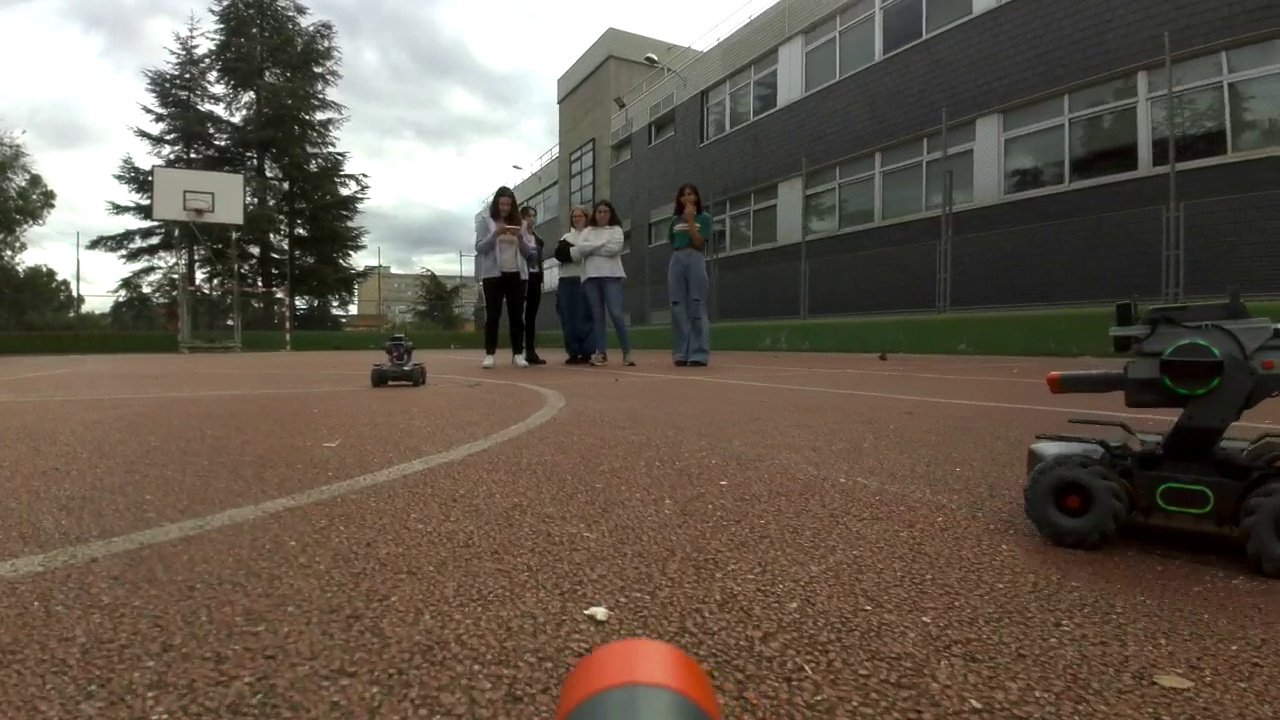robot: (1026, 300, 1280, 574), (370, 332, 428, 386)
